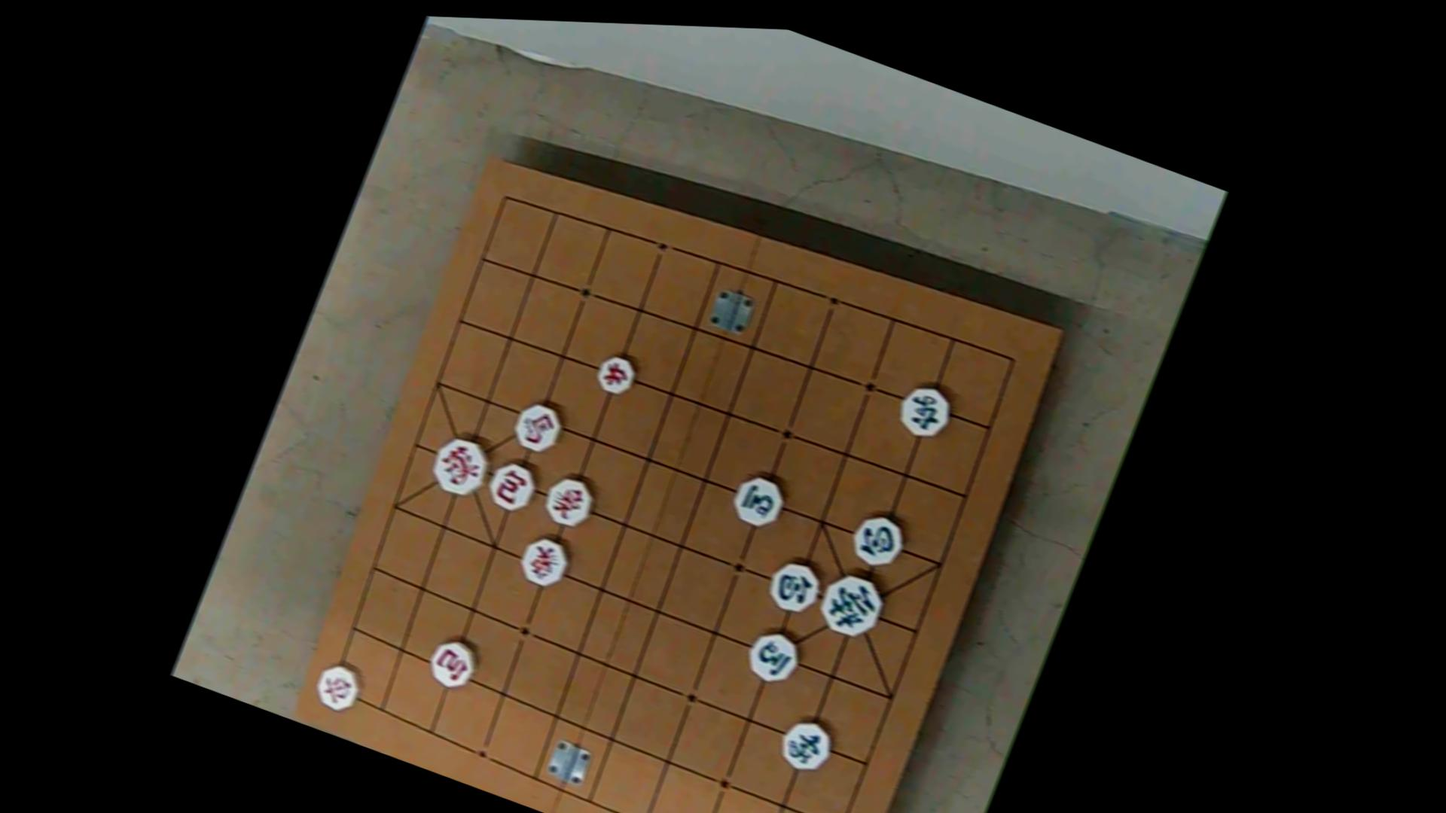cha_green: (893, 382, 958, 445)
cha_red: (311, 659, 368, 714)
jol_red: (592, 352, 641, 398)
ma_green: (740, 625, 807, 689), (727, 472, 790, 532)
ma_red: (508, 399, 567, 458)
po_green: (846, 506, 911, 570), (761, 554, 826, 617)
po_red: (423, 635, 482, 693), (484, 458, 542, 515)
sang_green: (777, 711, 840, 772)
sang_red: (538, 470, 600, 531), (516, 529, 576, 589)
wang_green: (813, 565, 891, 641)
wang_red: (426, 428, 496, 498)
